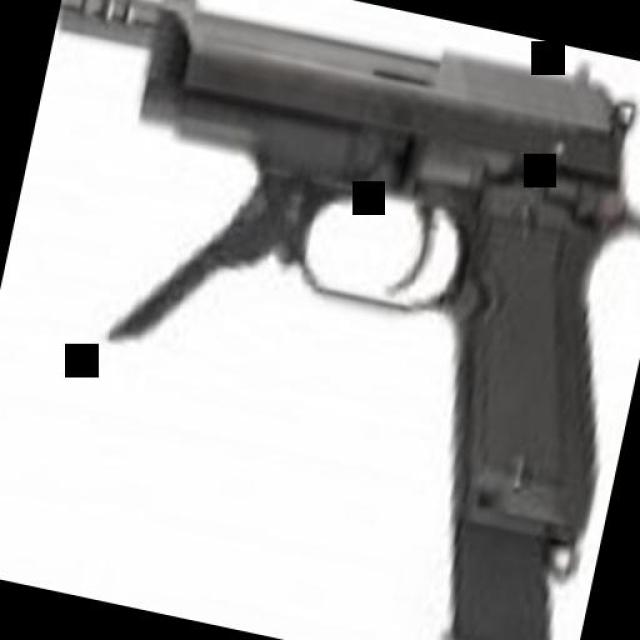gun: (52, 0, 640, 564)
